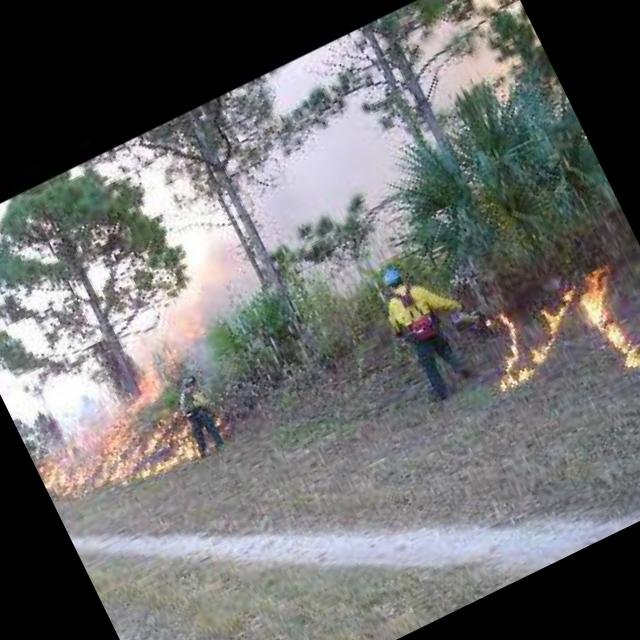fire: (2, 311, 238, 522), (472, 276, 592, 394)
